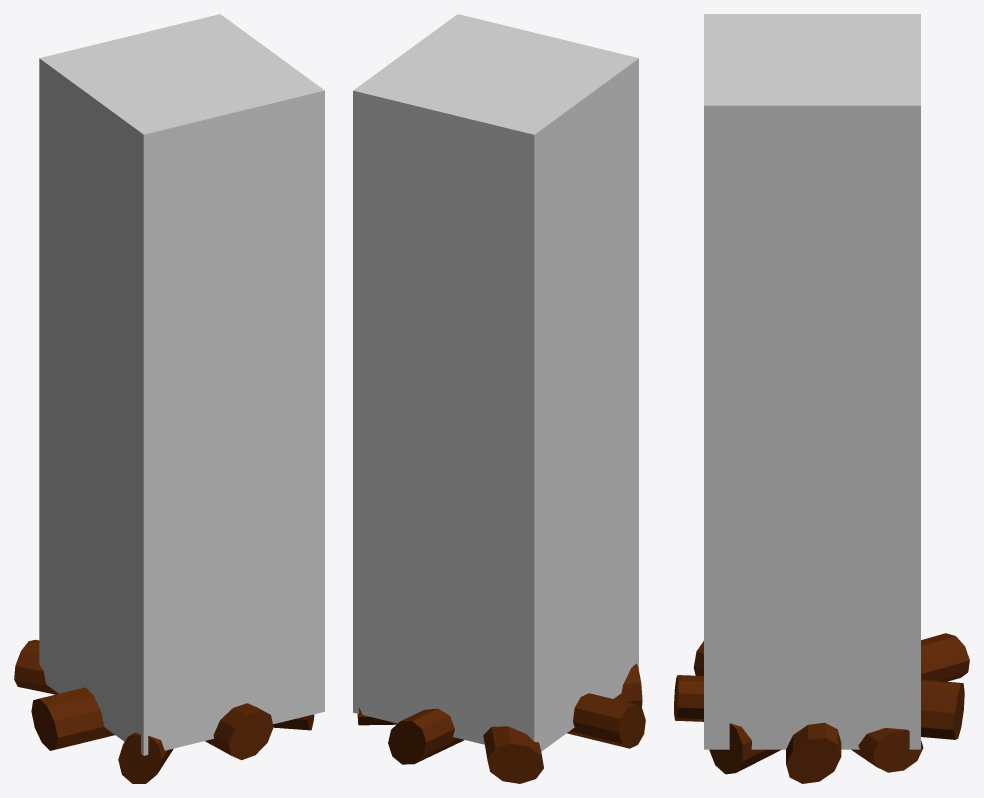
The model's file is Campfire.fbx.
3 views of the same model, side by side, from view 1: azimuth 30°, elevation 25°; view 2: azimuth 150°, elevation 25°; view 3: azimuth 270°, elevation 25° (orthographic). The views are drawn at different scales.
Visible parts, largest first — view 1: Cube, Cylinder.003; view 2: Cube, Cylinder.003; view 3: Cube, Cylinder.003.
Boxes of the visible parts, box(x1,y1,x2,y2) form: Cube: box(39, 14, 324, 755); Cylinder.003: box(14, 639, 314, 783); Cube: box(353, 14, 638, 751); Cylinder.003: box(357, 663, 645, 783); Cube: box(704, 14, 920, 749); Cylinder.003: box(674, 633, 969, 783).
Size of the model in its own units: 711 by 1721 by 682.
